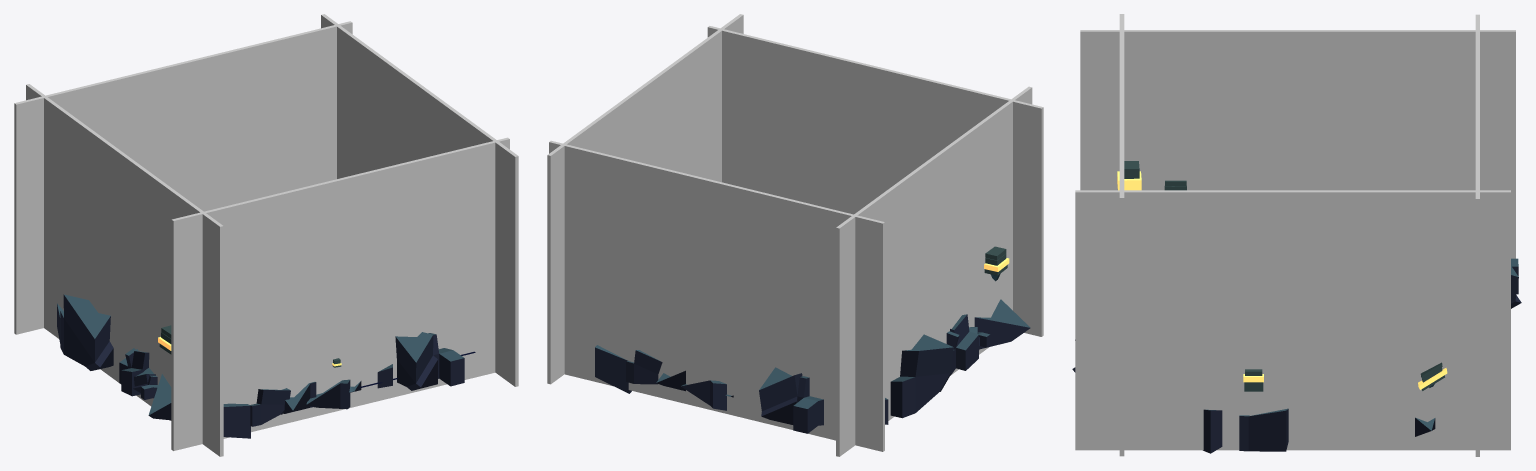
File: bluefightarena_v1.fbx
3 views of the same model, side by side, from view 1: azimuth 30°, elevation 25°; view 2: azimuth 150°, elevation 25°; view 3: azimuth 270°, elevation 25° (orthographic). The views are drawn at different scales.
Parts seen in each view (by area): view 1: Cube.055, Cube.045, Cube.056, Cube.057, Plane; view 2: Cube.045, Cube.055, Cube.056, Cube.057, Plane; view 3: Cube.057, Cube.056, Plane, Cube.055, Cube.045.
Part boxes in pixels (x1=…): Cube.055: x1=171, y1=137, x2=509, y2=450; Cube.045: x1=14, y1=21, x2=352, y2=334; Cube.056: x1=26, y1=84, x2=223, y2=456; Cube.057: x1=321, y1=14, x2=518, y2=386; Plane: x1=57, y1=294, x2=475, y2=438; Cube.045: x1=549, y1=140, x2=884, y2=451; Cube.055: x1=707, y1=26, x2=1043, y2=336; Cube.056: x1=836, y1=86, x2=1032, y2=456; Cube.057: x1=547, y1=14, x2=743, y2=384; Plane: x1=595, y1=246, x2=1030, y2=433; Cube.057: x1=1075, y1=190, x2=1510, y2=450; Cube.056: x1=1080, y1=30, x2=1515, y2=258; Plane: x1=1072, y1=161, x2=1521, y2=453; Cube.055: x1=1119, y1=14, x2=1124, y2=456; Cube.045: x1=1475, y1=14, x2=1479, y2=456.
Size of the model in its own units: 19720 by 12804 by 19791.
